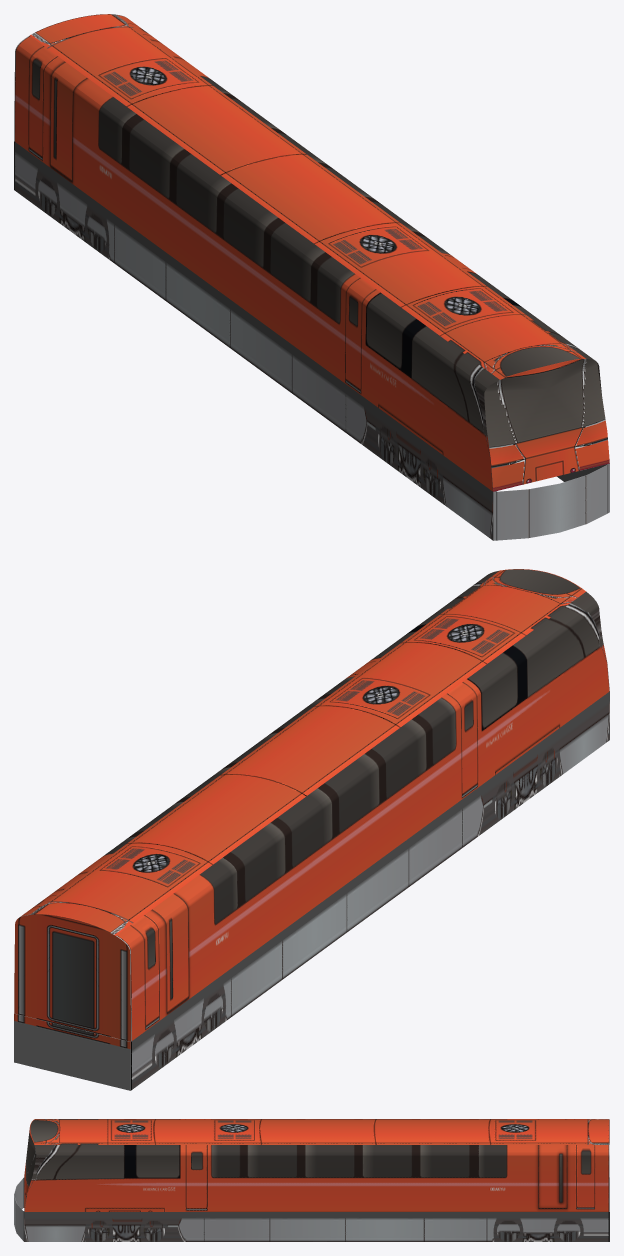
The model's file is car1.glb.
3 views of the same model, one above another, from view 1: azimuth 30°, elevation 25°; view 2: azimuth 150°, elevation 25°; view 3: azimuth 270°, elevation 25° (orthographic). The views are drawn at different scales.
Visible parts, largest first — view 1: car1.glb; view 2: car1.glb; view 3: car1.glb.
Boxes of the visible parts, x1,y1,x2,y2 form: car1.glb: (14,14,609,540); car1.glb: (14,569,609,1090); car1.glb: (14,1119,609,1241).
Size of the model in its own units: 2.88 by 3.7 by 20.83.
9 materials, 8 textured.
